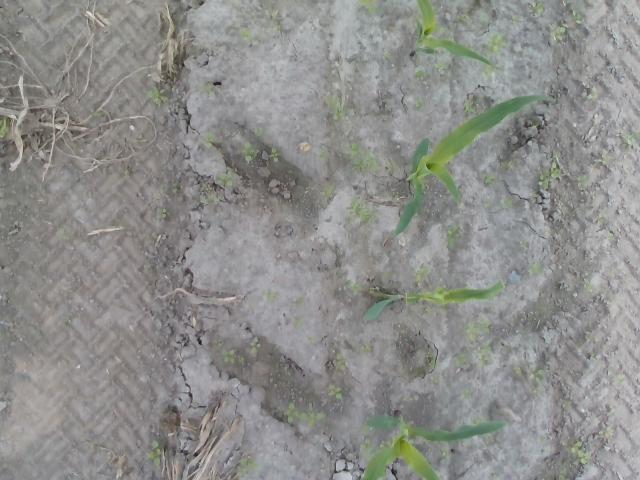Maize: (392, 93, 558, 238), (361, 410, 509, 480), (410, 1, 504, 74), (363, 279, 506, 324)
Weeds: (284, 402, 327, 432), (344, 142, 382, 174), (212, 338, 238, 368), (348, 197, 376, 223), (471, 418, 497, 444), (538, 163, 562, 190), (235, 457, 263, 480), (569, 440, 591, 466), (197, 184, 220, 208), (263, 8, 284, 34), (466, 319, 490, 340), (238, 141, 258, 166), (529, 369, 545, 398), (146, 86, 168, 107), (146, 441, 162, 468), (486, 33, 502, 58), (446, 227, 462, 251), (474, 343, 491, 365), (328, 99, 344, 122), (213, 172, 233, 190), (413, 267, 432, 283), (550, 23, 566, 42), (359, 0, 379, 15), (328, 384, 344, 402), (333, 354, 349, 372), (410, 67, 430, 81), (199, 82, 216, 98), (249, 340, 262, 360), (319, 183, 337, 197), (205, 134, 219, 152), (362, 436, 373, 458), (595, 154, 615, 166), (260, 288, 278, 301), (627, 130, 640, 148), (456, 354, 472, 368), (528, 1, 544, 15), (0, 118, 11, 138), (426, 352, 438, 370), (441, 444, 453, 462), (560, 206, 580, 216), (268, 148, 282, 162), (464, 99, 476, 115), (294, 297, 308, 310), (528, 261, 540, 276), (578, 176, 590, 190), (584, 278, 596, 292), (459, 388, 473, 400), (156, 207, 168, 221), (238, 28, 252, 40), (318, 150, 330, 162), (598, 428, 614, 437), (359, 344, 371, 356), (501, 162, 515, 172), (552, 146, 562, 160), (588, 86, 598, 100), (293, 318, 304, 330), (500, 198, 512, 209), (377, 440, 393, 448), (388, 160, 397, 174), (413, 96, 422, 110), (484, 172, 494, 184), (514, 366, 523, 378), (560, 400, 572, 408), (254, 124, 262, 136), (306, 334, 316, 342)
